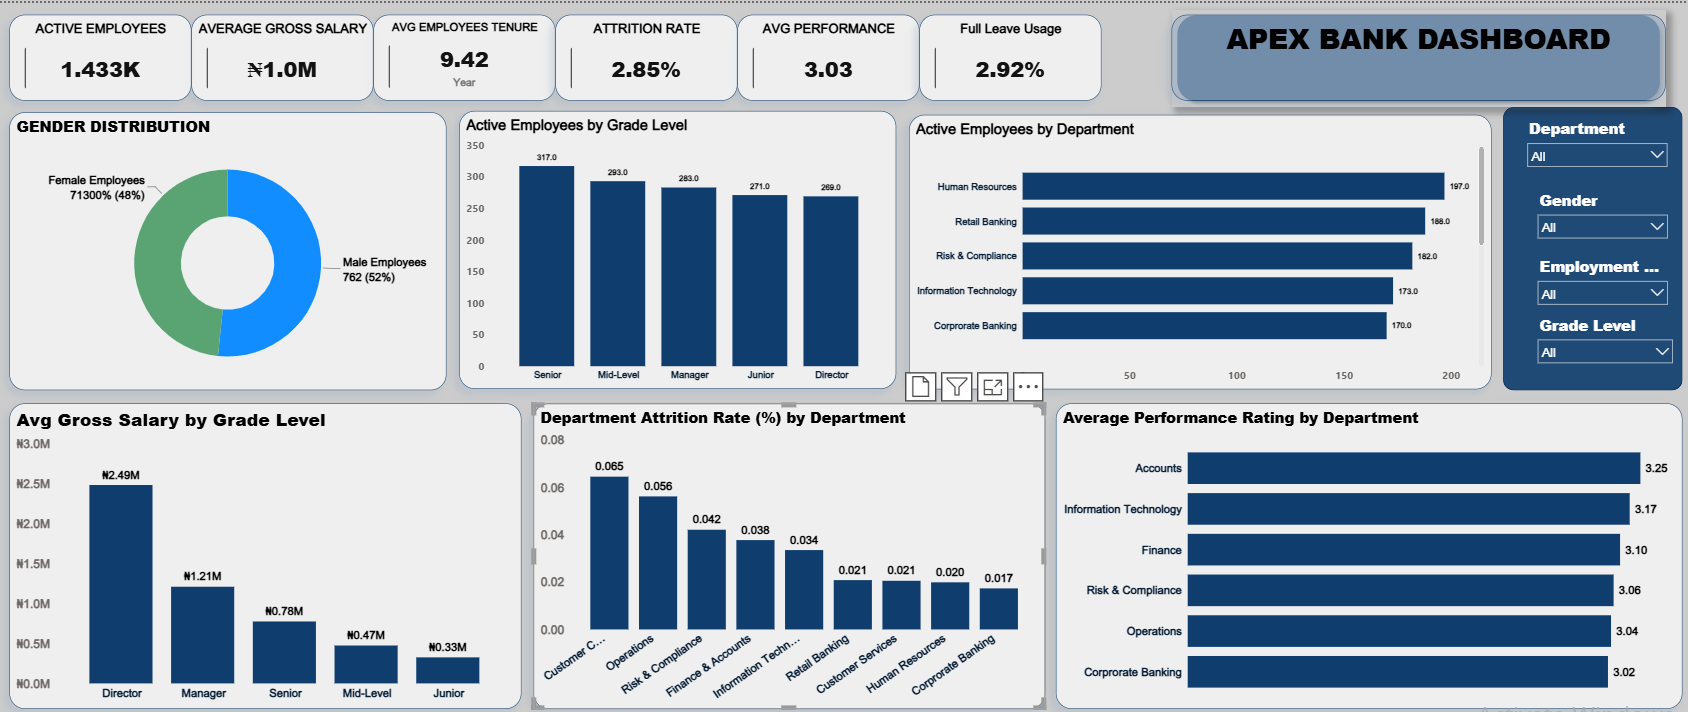

This screenshot's page, from the dashboard's own definition file:
{"tool":"powerbi","page":{"name":"Page 2","canvas":[2600,1100],"ordinal":0},"visuals":[{"type":"shape","box":[2314,160,276,436],"z":0},{"type":"shape","box":[1804,10,760,150],"z":1000},{"type":"donutChart","title":"GENDER DISTRIBUTION ","fields":{"Y":["_measure.Male Count","_measure.Female Count"]},"box":[16,168,672,428],"z":2000},{"type":"cardVisual","title":"AVG PERFORMANCE","fields":{"Data":["_measure.Average Performance Rating"]},"box":[1136,18,280,132],"z":3000},{"type":"cardVisual","title":"AVG EMPLOYEES TENURE","fields":{"Data":["_measure.Average Employee Tenure"]},"box":[576,18,280,132],"z":4000},{"type":"cardVisual","title":"Full Leave Usage","fields":{"Data":["_measure.Full Leave Usage %"]},"box":[1416,18,280,132],"z":5000},{"type":"cardVisual","title":"AVERAGE GROSS SALARY","fields":{"Data":["_measure.Average Gross Salary"]},"box":[296,18,280,132],"z":6000},{"type":"cardVisual","title":"ACTIVE EMPLOYEES","fields":{"Data":["_measure.Total Active Employees"]},"box":[16,18,280,132],"z":7000},{"type":"cardVisual","title":"ATTRITION RATE","fields":{"Data":["_measure.Attrition Rate (%)"]},"box":[856,18,280,132],"z":8000},{"type":"columnChart","title":"Department Attrition Rate (%) by Department","fields":{"Y":["_measure.Department Attrition Rate (%)"],"Category":["ApexBank_HR_Intermediate(Employee_Data).Department_Updated"]},"box":[822,616,788,470],"z":9000},{"type":"textbox","box":[1804,18,760,132],"z":10000},{"type":"slicer","fields":{"Values":["ApexBank_HR_Intermediate(Employee_Data).Gender_Updated"]},"box":[2352,282,230,100],"z":11000},{"type":"slicer","fields":{"Values":["ApexBank_HR_Intermediate(Employee_Data).Grade_Level"]},"box":[2352,474,238,98],"z":12000},{"type":"slicer","fields":{"Values":["ApexBank_HR_Intermediate(Employee_Data).Employment_Type_Updated"]},"box":[2352,384,230,90],"z":13000},{"type":"slicer","fields":{"Values":["ApexBank_HR_Intermediate(Employee_Data).Department_Updated"]},"box":[2336,172,246,104],"z":14000},{"type":"columnChart","fields":{"Y":["_measure.Active Employees"],"Category":["ApexBank_HR_Intermediate(Employee_Data).Grade_Level"]},"box":[708,166,672,428],"z":15000},{"type":"barChart","fields":{"Category":["ApexBank_HR_Intermediate(Employee_Data).Department_Updated"],"Y":["_measure.Active Employees"]},"box":[1400,172,896,422],"z":16000},{"type":"clusteredBarChart","title":"Average Performance Rating by Department","fields":{"Category":["ApexBank_HR_Intermediate(Employee_Data).Department_Updated"],"Y":["_measure.Average Performance Rating"]},"box":[1626,616,964,470],"z":17000},{"type":"columnChart","title":"Avg Gross Salary by Grade Level","fields":{"Category":["ApexBank_HR_Intermediate(Employee_Data).Grade_Level"],"Y":["_measure.Average Gross Salary"]},"box":[16,616,788,470],"z":18000}]}

Visuals, with their boxes in screenshot pixels (x1, y1, x2, y2), scaled from the page's 2600x1100 canvas onto the 1688x712 screenshot:
shape: 1502,104,1682,386
shape: 1171,6,1665,104
"GENDER DISTRIBUTION " donutChart: 10,109,447,386
"AVG PERFORMANCE" cardVisual: 738,12,919,97
"AVG EMPLOYEES TENURE" cardVisual: 374,12,556,97
"Full Leave Usage" cardVisual: 919,12,1101,97
"AVERAGE GROSS SALARY" cardVisual: 192,12,374,97
"ACTIVE EMPLOYEES" cardVisual: 10,12,192,97
"ATTRITION RATE" cardVisual: 556,12,738,97
"Department Attrition Rate (%) by Department" columnChart: 534,399,1045,703
textbox: 1171,12,1665,97
slicer - ApexBank_HR_Intermediate(Employee_Data).Gender_Updated: 1527,183,1676,247
slicer - ApexBank_HR_Intermediate(Employee_Data).Grade_Level: 1527,307,1682,370
slicer - ApexBank_HR_Intermediate(Employee_Data).Employment_Type_Updated: 1527,249,1676,307
slicer - ApexBank_HR_Intermediate(Employee_Data).Department_Updated: 1517,111,1676,179
columnChart - _measure.Active Employees x ApexBank_HR_Intermediate(Employee_Data).Grade_Level: 460,107,896,384
barChart - ApexBank_HR_Intermediate(Employee_Data).Department_Updated x _measure.Active Employees: 909,111,1491,384
"Average Performance Rating by Department" clusteredBarChart: 1056,399,1682,703
"Avg Gross Salary by Grade Level" columnChart: 10,399,522,703
